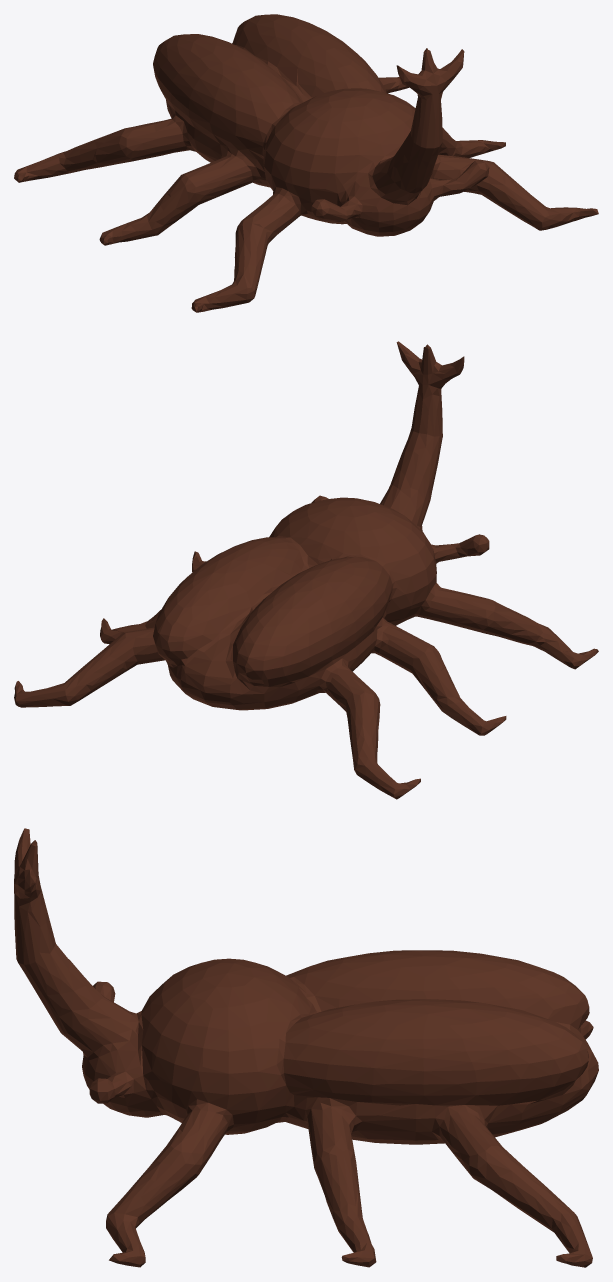
The model's file is NEW_RECOVERY_069_LOD0.glb.
The picture shows the model from 3 angles, top to bottom: view 1: azimuth 30°, elevation 25°; view 2: azimuth 150°, elevation 25°; view 3: azimuth 270°, elevation 25°; orthographic projection. The views are drawn at different scales.
Parts seen in each view (by area): view 1: abdomen; view 2: abdomen; view 3: abdomen.
Part boxes in pixels (x1,y1,x2,y2): abdomen: (14,14,598,312); abdomen: (14,341,598,799); abdomen: (14,828,598,1267).
Bounding box in the file's own units: 3.92 × 2.31 × 3.93.
